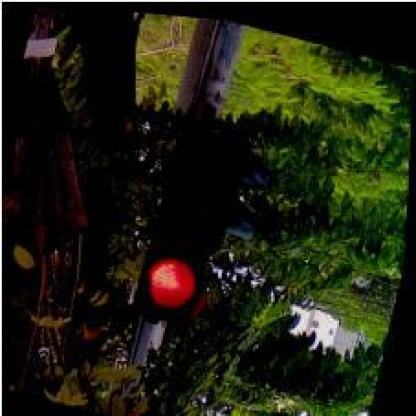red: (130, 108, 248, 328)
